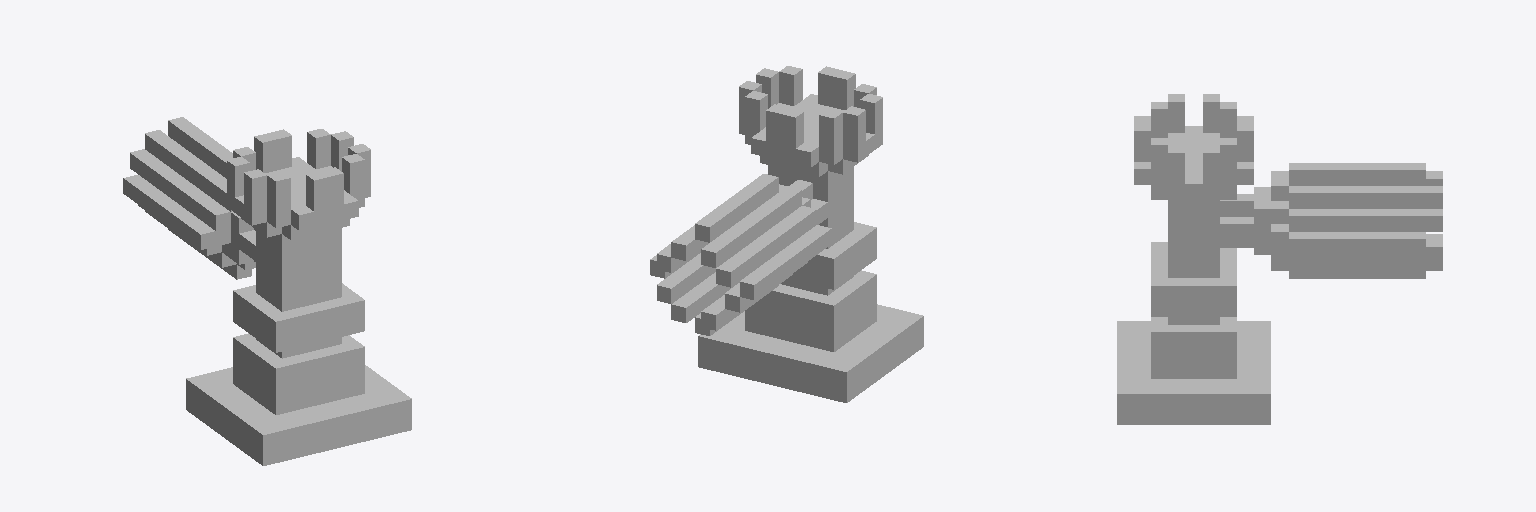
The model's file is tower1export.obj.
3 renders of one model, left to right at view 1: azimuth 30°, elevation 25°; view 2: azimuth 150°, elevation 25°; view 3: azimuth 270°, elevation 25°, orthographic.
Size of the model in its own units: 10 by 17 by 19.